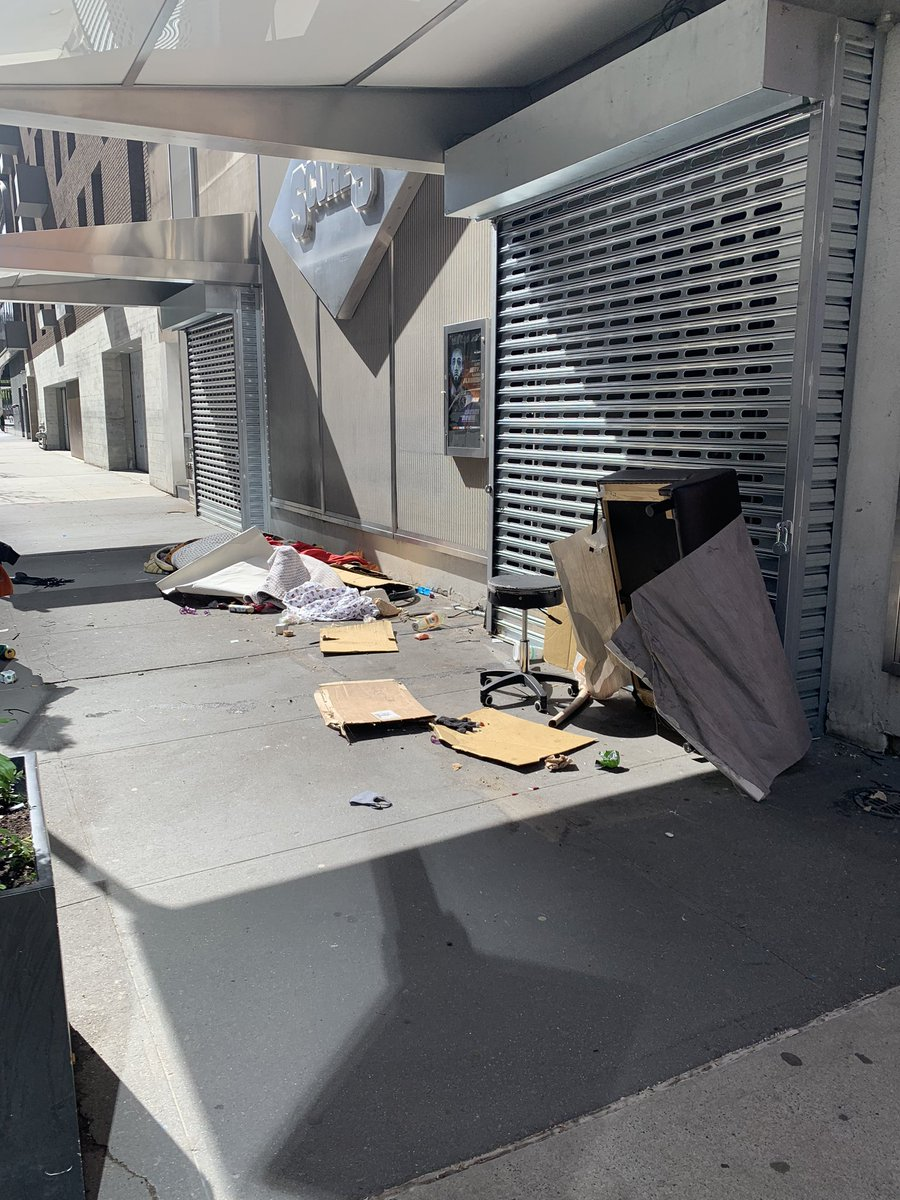building: (1, 1, 894, 733)
trash: (77, 399, 811, 864)
